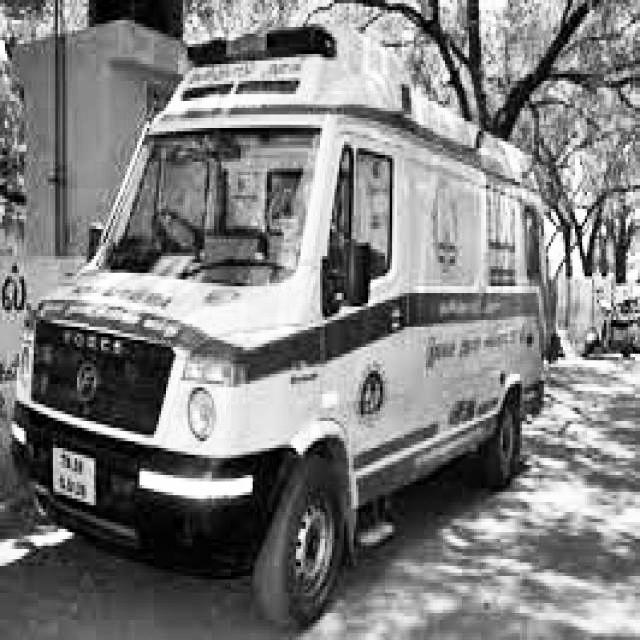LCV: (12, 28, 369, 572)
